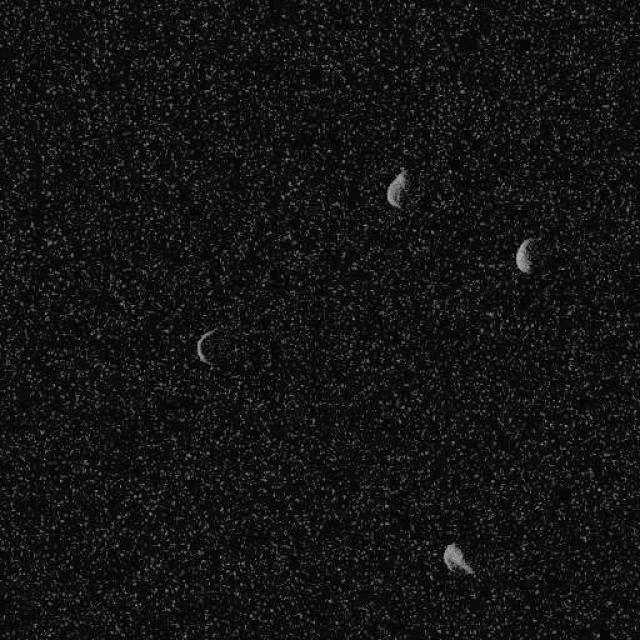D2: (441, 542, 475, 576), (195, 325, 219, 369), (385, 168, 410, 208), (514, 236, 538, 275)
